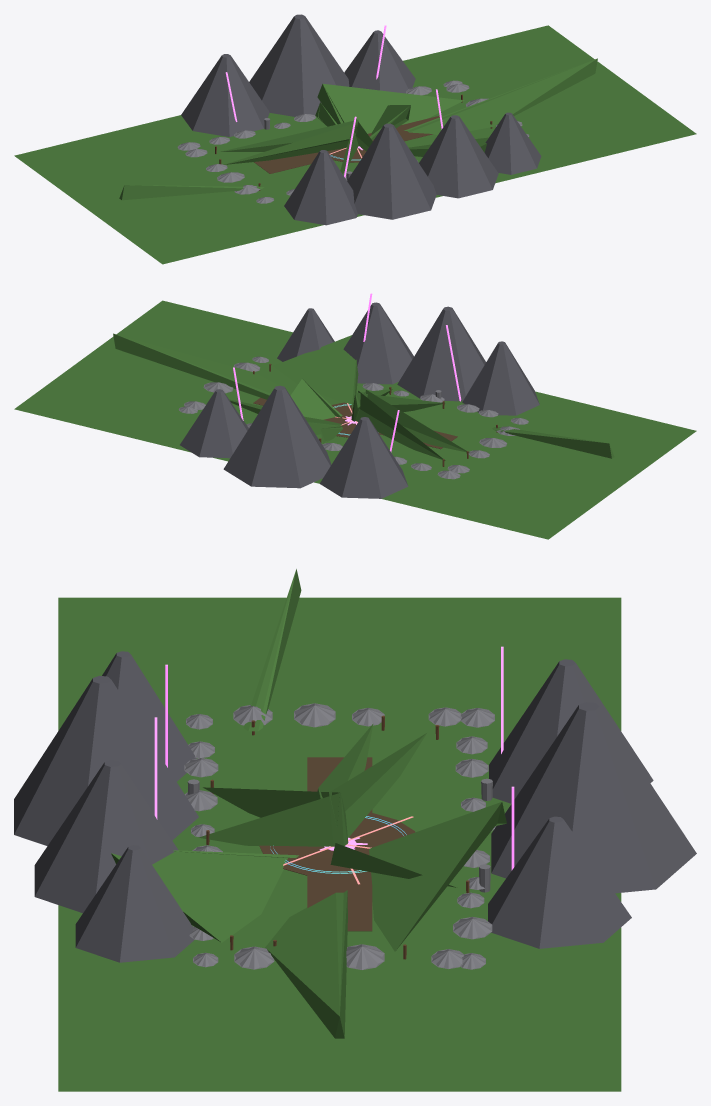
File: RC_Arena_Master.glb
3 renders of one model, top to bottom at view 1: azimuth 30°, elevation 25°; view 2: azimuth 150°, elevation 25°; view 3: azimuth 270°, elevation 25°, orthographic. The views are drawn at different scales.
Visible parts, largest first — view 1: RC_Arena_Ground, RC_Arena_Mountains, RC_Arena_Trees, RC_Arena_BoundaryRocks, RC_Arena_Lanes, RC_Arena_EnergyArcs; view 2: RC_Arena_Ground, RC_Arena_Mountains, RC_Arena_Trees, RC_Arena_BoundaryRocks, RC_Arena_Lanes, RC_Arena_EnergyArcs; view 3: RC_Arena_Ground, RC_Arena_Mountains, RC_Arena_Trees, RC_Arena_BoundaryRocks, RC_Arena_Lanes, RC_Arena_EnergyArcs.
Boxes of the visible parts, <box> form: RC_Arena_Ground: <box>14,25,696,264</box>; RC_Arena_Mountains: <box>181,14,541,225</box>; RC_Arena_Trees: <box>119,58,597,200</box>; RC_Arena_BoundaryRocks: <box>177,80,529,203</box>; RC_Arena_Lanes: <box>254,116,441,173</box>; RC_Arena_EnergyArcs: <box>225,25,443,177</box>; RC_Arena_Ground: <box>14,300,696,539</box>; RC_Arena_Mountains: <box>180,302,539,498</box>; RC_Arena_Trees: <box>113,333,614,460</box>; RC_Arena_BoundaryRocks: <box>179,356,528,479</box>; RC_Arena_Lanes: <box>253,397,457,449</box>; RC_Arena_EnergyArcs: <box>233,293,461,452</box>; RC_Arena_Ground: <box>58,597,621,1091</box>; RC_Arena_Mountains: <box>14,651,696,962</box>; RC_Arena_Trees: <box>111,569,506,1038</box>; RC_Arena_BoundaryRocks: <box>184,703,495,969</box>; RC_Arena_Lanes: <box>259,757,415,931</box>; RC_Arena_EnergyArcs: <box>154,646,514,870</box>.
Size of the model in its own units: 108 by 17.3 by 63.11.
